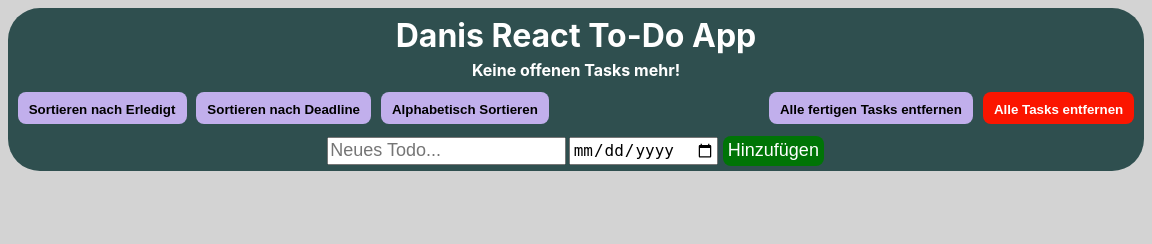
Input of a single task via user interaction. Check if it gets displayed.
The image size is (1152, 244).
In the field with test id "taskNameInput": (446, 151) [327,137,566,165], type "Aufräumen"
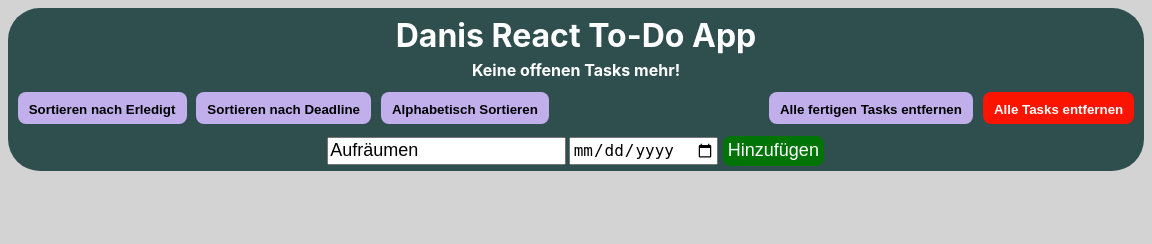
Click the button with test id "submitButton": (773, 151) [723,136,824,166]
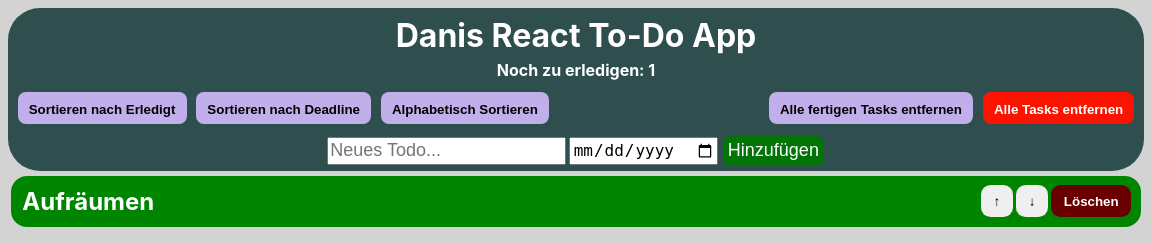
Expected: the heading "Aufräumen" is shown, [21,185,156,218]
